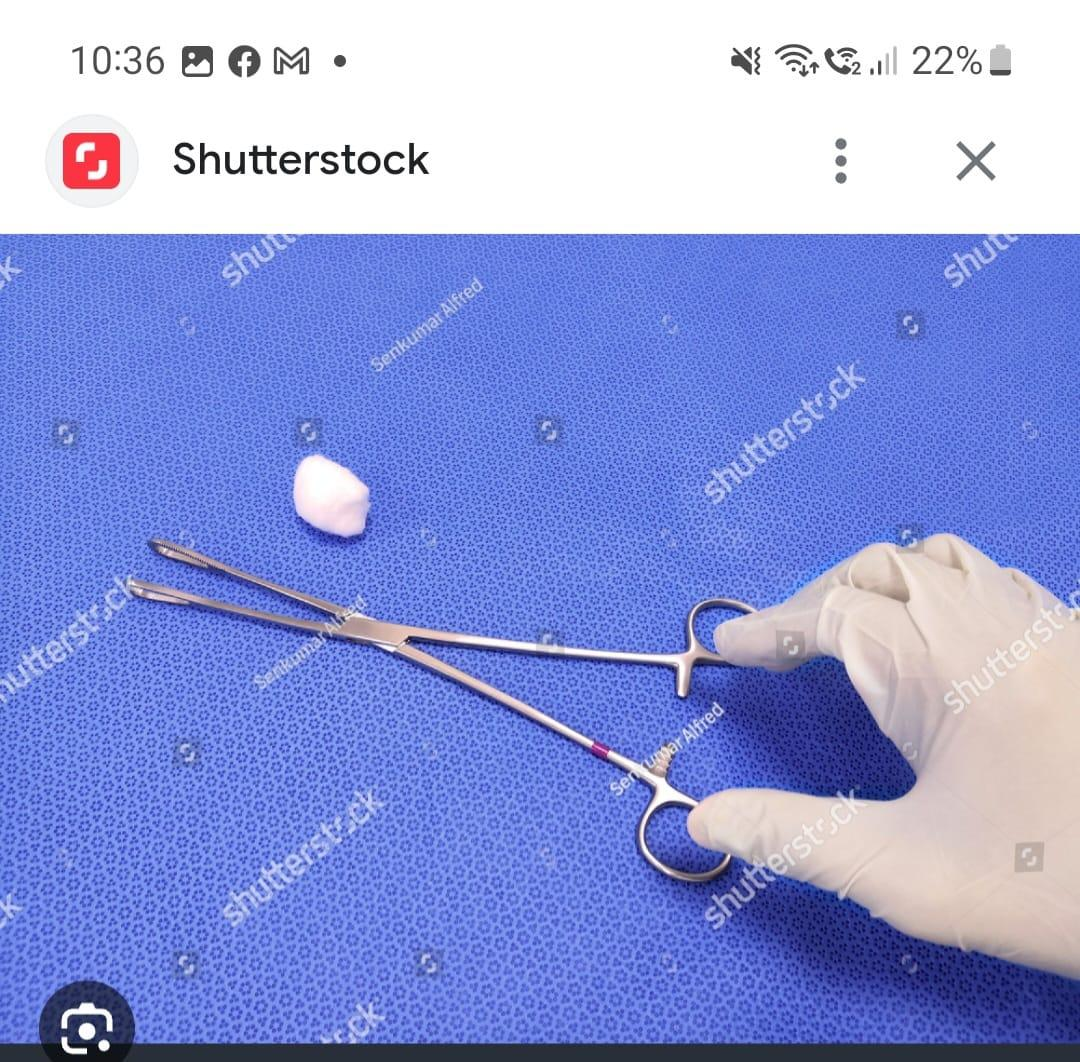Sponge Holding Forceps: (120, 523, 770, 892)
